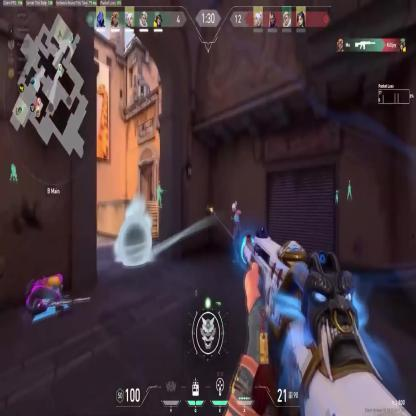enemy: (230, 201, 242, 264)
enemy_head: (232, 202, 236, 212)
